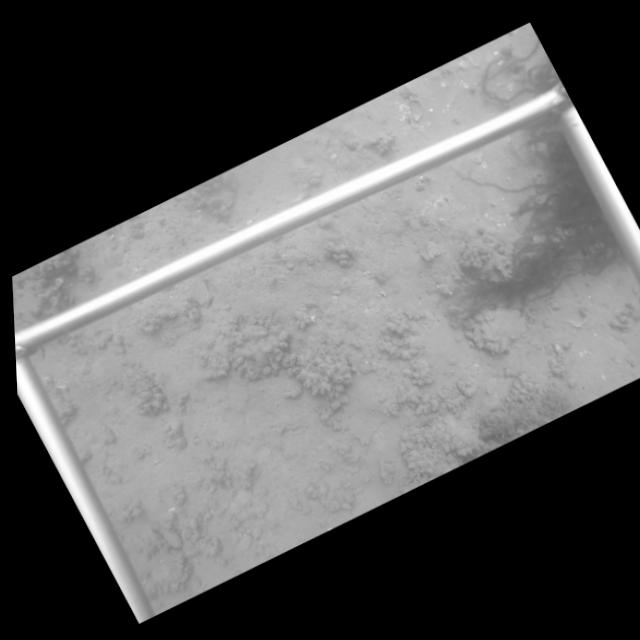Oyster-Indeterminate: (465, 306, 530, 350)
